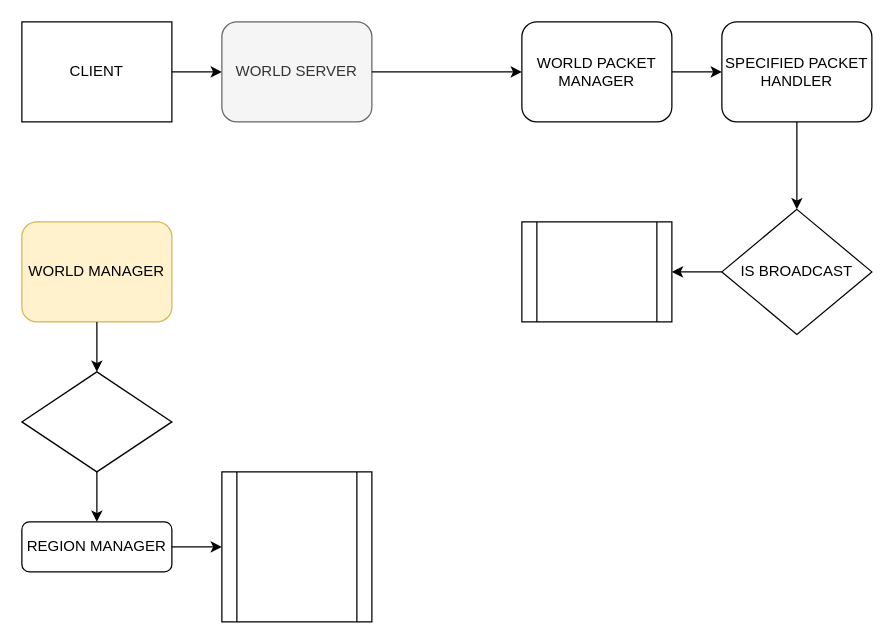
The diagram is 894 pixels wide and 644 high, and some of its shapes have lost their labels. The shapes that lost their labels are listed below. From the top down, each one's centre as x and y in pixels, then its label:
At [596,271]: "PUSH CALLBACK TO QUEUE".
At [96,421]: "QUEUE NOT EMPTY".
At [296,546]: "CALL CALLBACK FROM QUEUE WITH REGION DATA".
